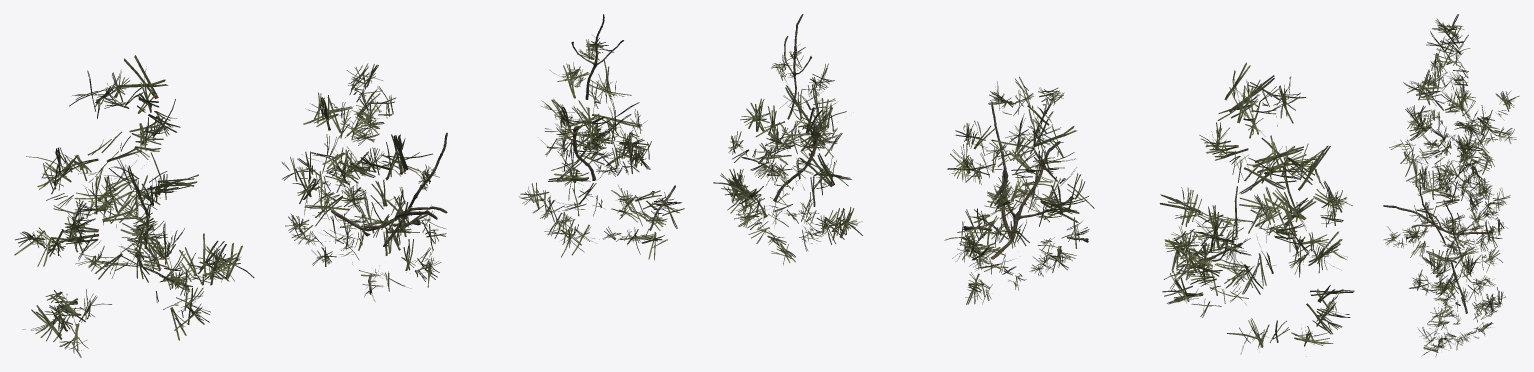
The model's file is pine_sapling_small_leaf.glb.
The picture shows the model from 3 angles, left to right: view 1: azimuth 30°, elevation 25°; view 2: azimuth 150°, elevation 25°; view 3: azimuth 270°, elevation 25°; orthographic projection. The views are drawn at different scales.
Visible parts, largest first — view 1: pine_sapling_small_a, pine_sapling_small_b, pine_sapling_small_c; view 2: pine_sapling_small_a, pine_sapling_small_b, pine_sapling_small_c; view 3: pine_sapling_small_a, pine_sapling_small_b, pine_sapling_small_c.
Part boxes in pixels (left/top/right/bottom): pine_sapling_small_a: left=14, top=55, right=254, bottom=357; pine_sapling_small_b: left=281, top=63, right=447, bottom=301; pine_sapling_small_c: left=518, top=14, right=684, bottom=260; pine_sapling_small_a: left=1159, top=62, right=1354, bottom=356; pine_sapling_small_b: left=944, top=76, right=1094, bottom=304; pine_sapling_small_c: left=713, top=14, right=862, bottom=265; pine_sapling_small_a: left=1389, top=14, right=1519, bottom=195; pine_sapling_small_b: left=1383, top=134, right=1510, bottom=272; pine_sapling_small_c: left=1409, top=199, right=1506, bottom=356.
Bounding box in the file's own units: 2.71 × 1.21 × 0.8103.
1 material, 1 textured.
